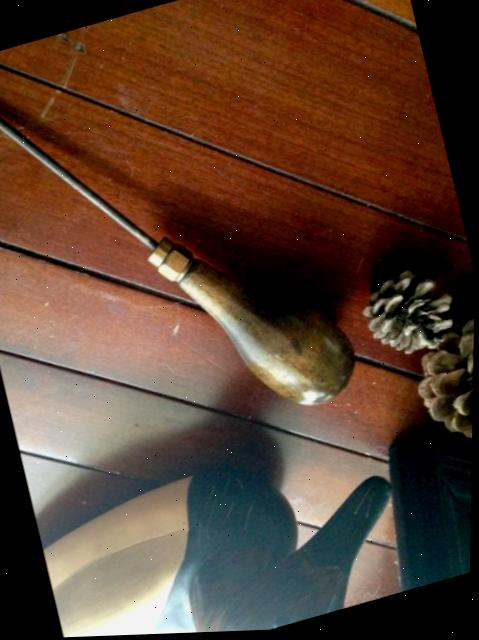ice pick: (0, 0, 366, 489)
